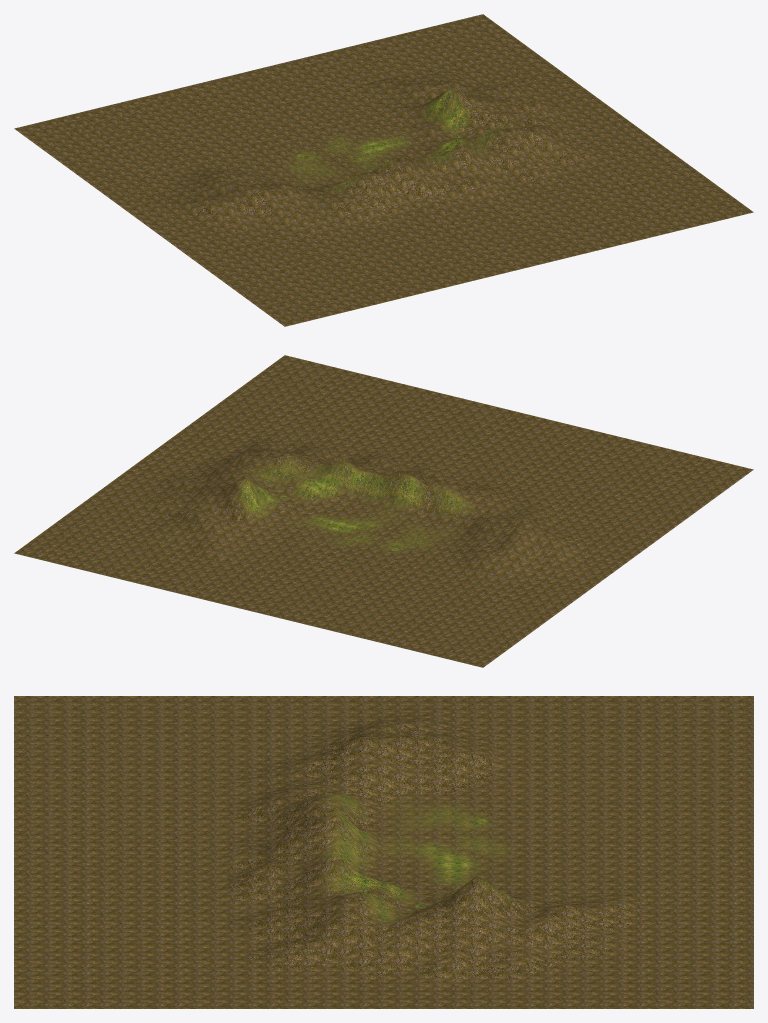
3 renders of one model, top to bottom at view 1: azimuth 30°, elevation 25°; view 2: azimuth 150°, elevation 25°; view 3: azimuth 270°, elevation 25°, orthographic. The views are drawn at different scales.
Parts seen in each view (by area): view 1: Mesh; view 2: Mesh; view 3: Mesh.
Boxes of the visible parts, <box> form: Mesh: <box>14,14,753,326</box>; Mesh: <box>14,355,753,667</box>; Mesh: <box>14,696,753,1008</box>.
Size of the model in its own units: 450 by 30.34 by 450.
Materials: 1 (1 with a texture image).
